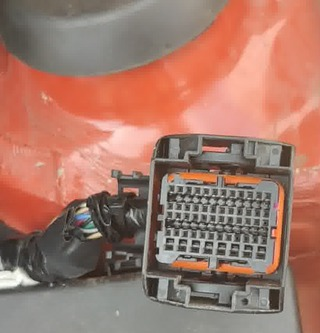connector: (141, 135, 295, 314)
